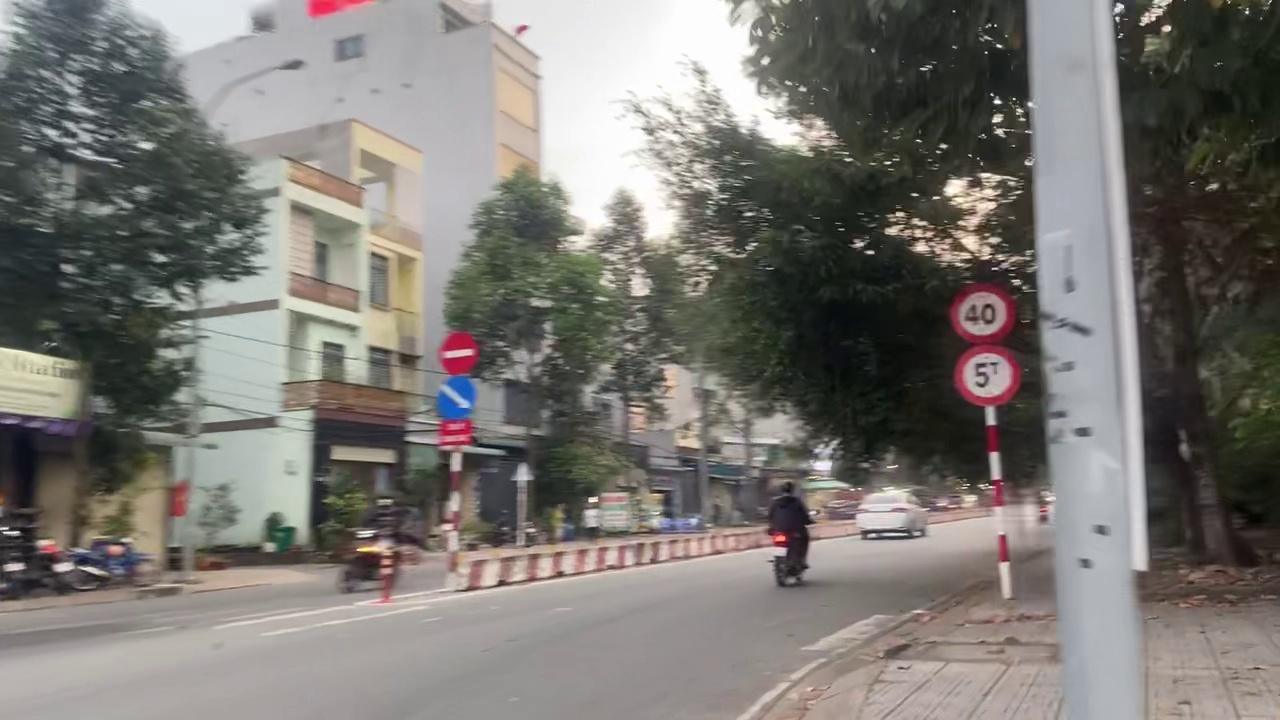cam_nguoc_chieu: (435, 328, 481, 377)
gioi_han_40km: (949, 284, 1019, 348)
huong_phai_di_vong: (435, 378, 478, 421)
